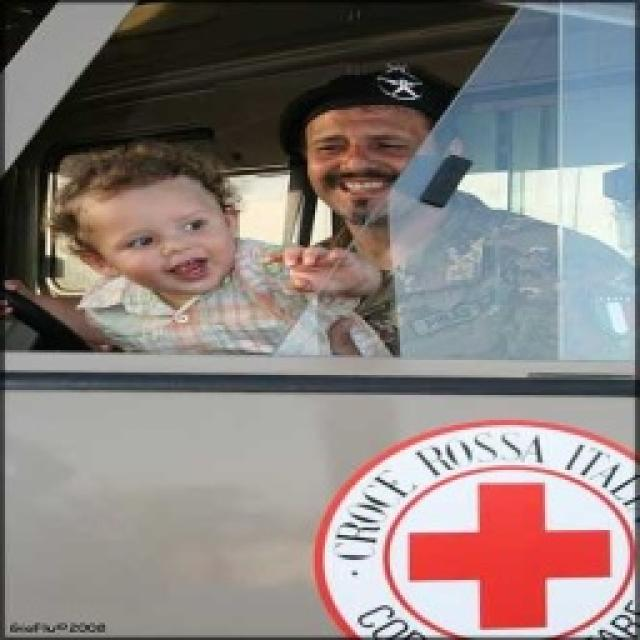ambulance: (312, 410, 638, 638)
